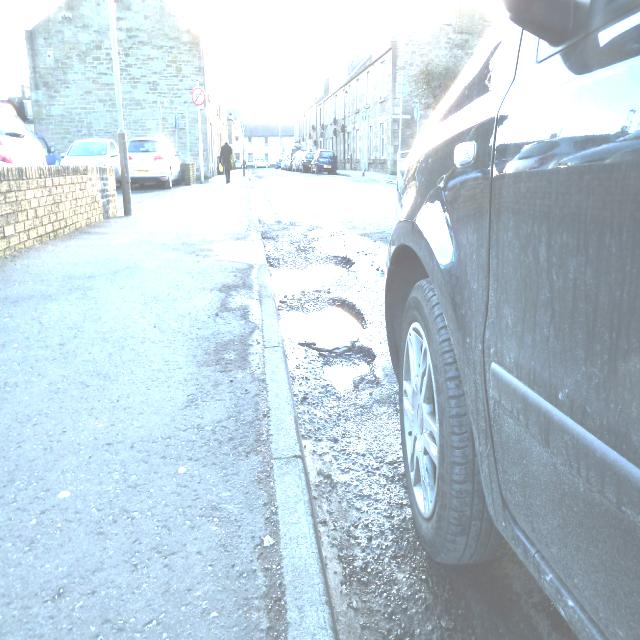Pothole: (230, 209, 381, 402)
